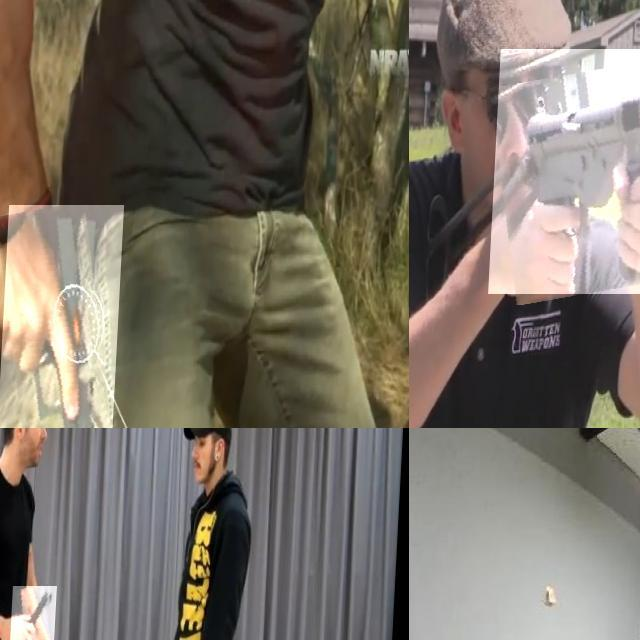-: (14, 585, 60, 640)
gun-knife-thesis - v11 Yolov5 augmented: (492, 49, 640, 293), (0, 204, 126, 428)
